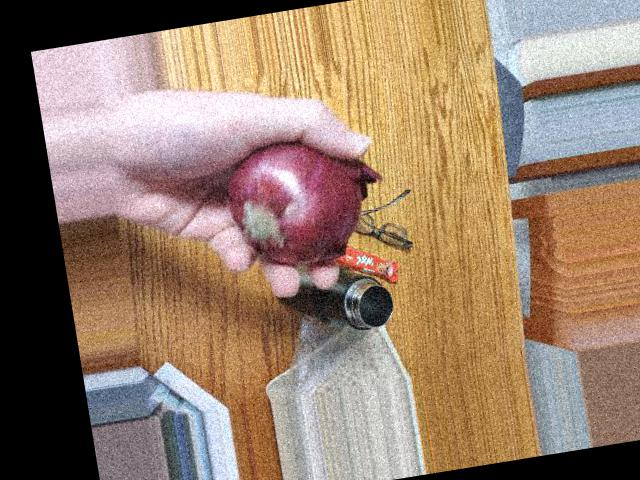onion: (228, 135, 366, 269)
